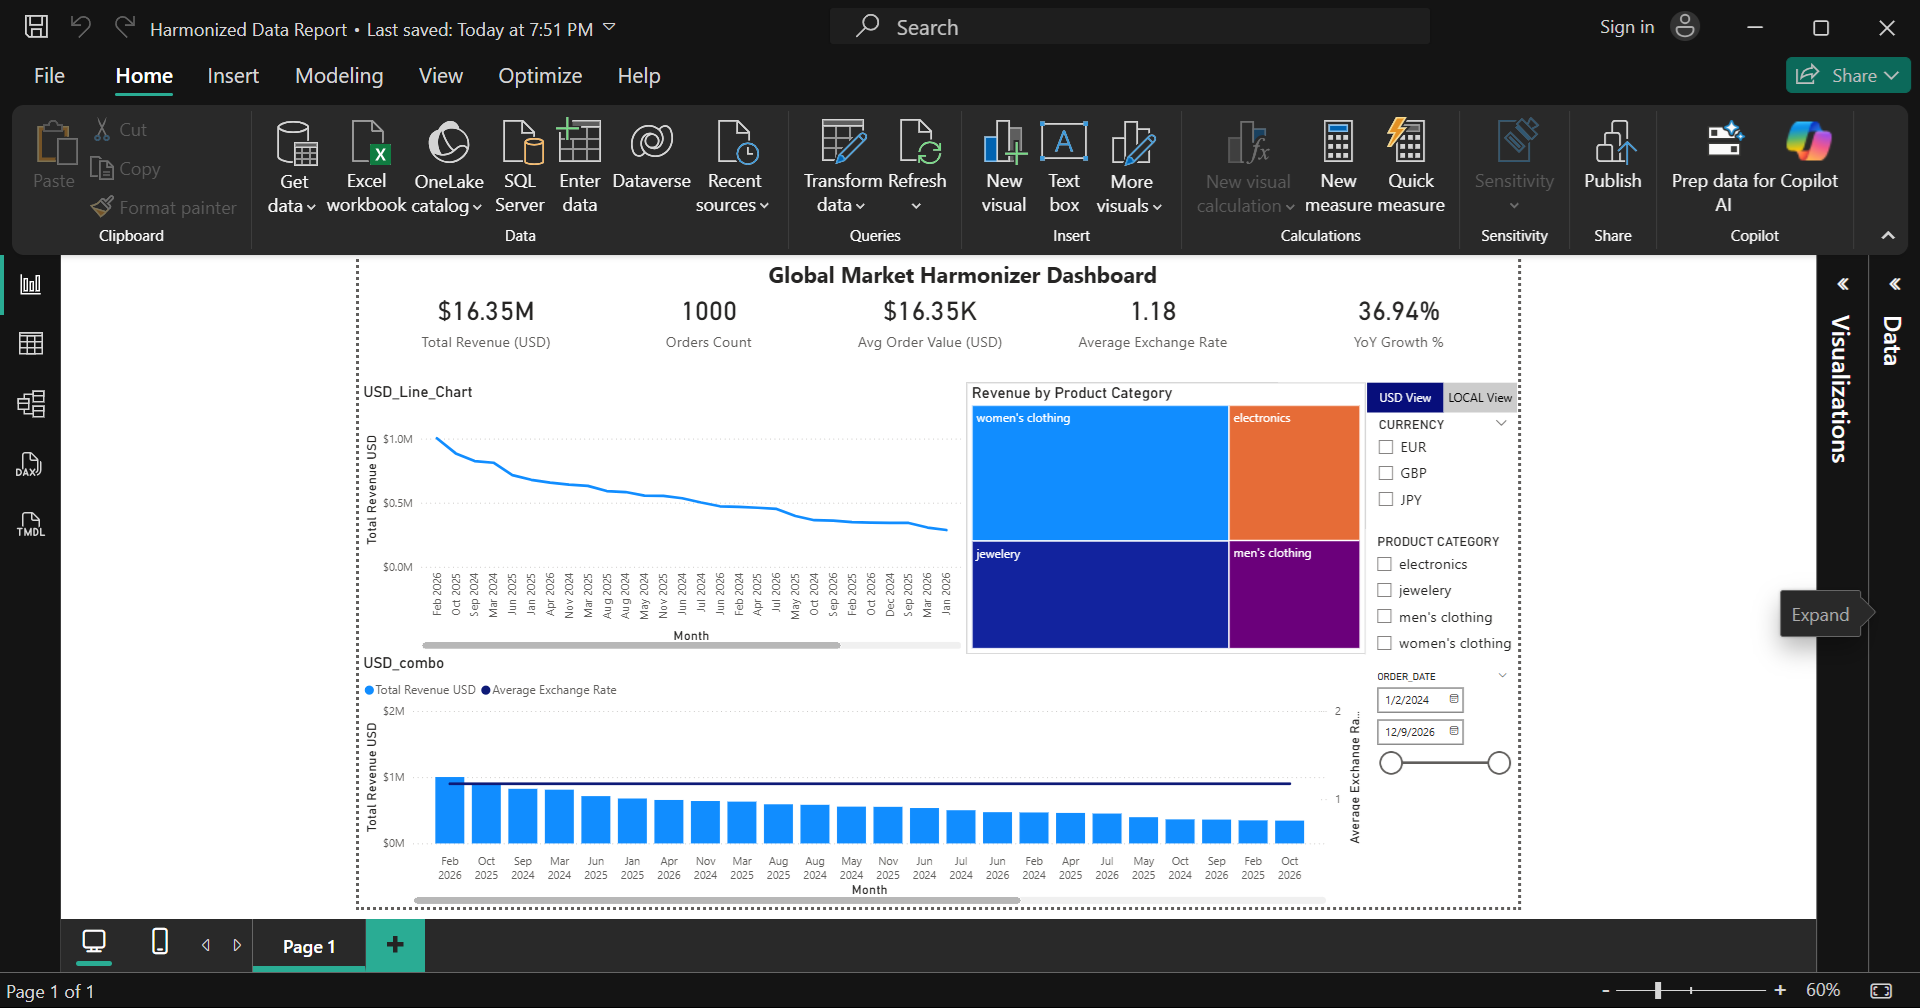

This screenshot's page, from the dashboard's own definition file:
{"tool":"powerbi","page":{"name":"Page 1","canvas":[1280,720],"ordinal":0},"visuals":[{"type":"card","title":"USD_revenue_card","fields":{"Values":["_Measures.Total Revenue USD"]},"box":[0,0,279.9,140.8],"z":0},{"type":"card","fields":{"Values":["_Measures.Total Orders"]},"box":[246,0,278.3,140.8],"z":1000},{"type":"card","title":"USD_Avg_Order_Value","fields":{"Values":["_Measures.Average Order Value"]},"box":[490.3,0,279.9,140.8],"z":2000},{"type":"card","fields":{"Values":["_Measures.Average Exchange Rate"]},"box":[736.3,0,278.3,140.8],"z":3000},{"type":"lineChart","title":"USD_Line_Chart","fields":{"Y":["_Measures.Total Revenue USD"],"Category":["FACT_ORDERS.Month"]},"box":[0,141.3,670,299.2],"z":4000},{"type":"treemap","title":"Revenue by Product Category","fields":{"Group":["DIM_PRODUCTS.PRODUCT_CATEGORY"],"Values":["_Measures.Total Revenue USD"]},"box":[670.9,140.8,440.6,299.8],"z":5000},{"type":"lineClusteredColumnComboChart","title":"USD_combo","fields":{"Y":["_Measures.Total Revenue USD"],"Y2":["_Measures.Average Exchange Rate"],"Category":["FACT_ORDERS.Month"]},"box":[0,440.5,1110.5,280.8],"z":6000},{"type":"slicer","fields":{"Values":["DIM_PRODUCTS.PRODUCT_CATEGORY"]},"box":[1111.5,303.1,169,150.7],"z":7000},{"type":"slicer","fields":{"Values":["FACT_ORDERS.ORDER_DATE"]},"box":[1111.5,453.9,169,127.5],"z":8000},{"type":"slicer","fields":{"Values":["FACT_ORDERS.CURRENCY"]},"box":[1113.2,173.9,167.3,117.6],"z":9000},{"type":"actionButton","title":"USD Active","box":[1113.2,140.8,84.5,33.1],"z":14000},{"type":"actionButton","title":"LOCAL Inactive","box":[1197.6,140.8,81.2,33.1],"z":15000},{"type":"textbox","box":[387.6,0,558.2,46.4],"z":16000},{"type":"card","fields":{"Values":["_Measures.YoY Growth %"]},"box":[1015.4,0,265,140.8],"z":17000}]}

Visuals, with their boxes on the page's 1280x720 design canvas (x1, y1, x2, y2). These are canvas units, not pixel positions in the 1920x1008 screenshot, which may show the page scaled, cropped or inside an application window:
"USD_revenue_card" card: 0:0:280:141
card - _Measures.Total Orders: 246:0:524:141
"USD_Avg_Order_Value" card: 490:0:770:141
card - _Measures.Average Exchange Rate: 736:0:1015:141
"USD_Line_Chart" lineChart: 0:141:670:440
"Revenue by Product Category" treemap: 671:141:1112:441
"USD_combo" lineClusteredColumnComboChart: 0:440:1110:721
slicer - DIM_PRODUCTS.PRODUCT_CATEGORY: 1112:303:1280:454
slicer - FACT_ORDERS.ORDER_DATE: 1112:454:1280:581
slicer - FACT_ORDERS.CURRENCY: 1113:174:1280:292
"USD Active" actionButton: 1113:141:1198:174
"LOCAL Inactive" actionButton: 1198:141:1279:174
textbox: 388:0:946:46
card - _Measures.YoY Growth %: 1015:0:1280:141
